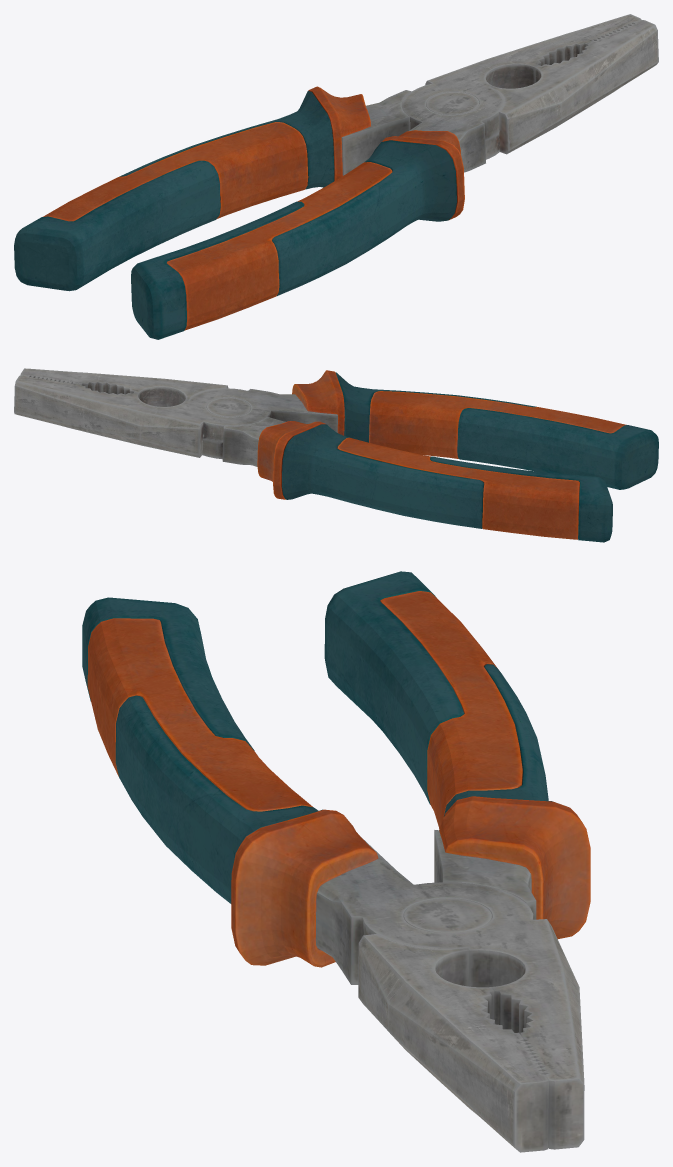
3 views of the same model, one above another, from view 1: azimuth 30°, elevation 25°; view 2: azimuth 150°, elevation 25°; view 3: azimuth 270°, elevation 25° (orthographic). The views are drawn at different scales.
Visible parts, largest first — view 1: n1; view 2: n1; view 3: n1.
Part boxes in pixels (x1=…): n1: x1=14, y1=14, x2=658, y2=339; n1: x1=14, y1=368, x2=658, y2=542; n1: x1=82, y1=571, x2=590, y2=1152.
Size of the model in its own units: 0.9 by 0.1068 by 0.3528.
1 material, 1 textured.
